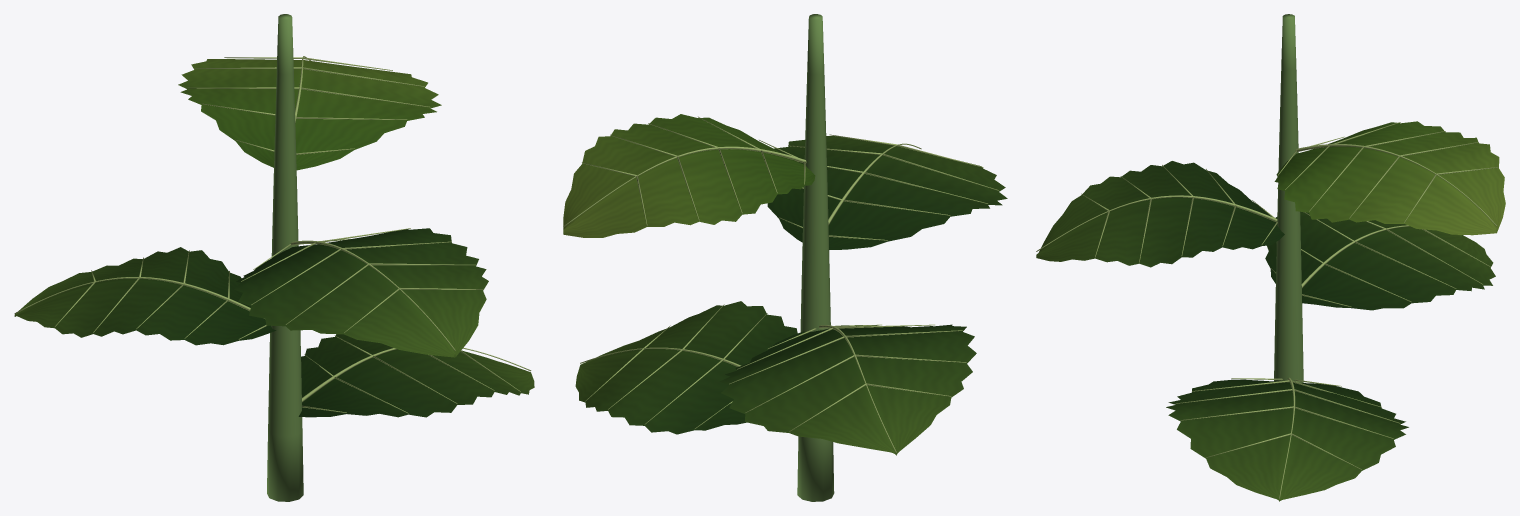
File: hydrangea-03.glb
3 renders of one model, left to right at view 1: azimuth 30°, elevation 25°; view 2: azimuth 150°, elevation 25°; view 3: azimuth 270°, elevation 25°, orthographic. The views are drawn at different scales.
Visible parts, largest first — view 1: hydrangea_stage_03_leaf_veins.004, hydrangea_stage_03_young_leaf.004, hydrangea_stage_03_stem_fibres.004, hydrangea_stage_03_raised_midveins.004; view 2: hydrangea_stage_03_leaf_veins.004, hydrangea_stage_03_young_leaf.004, hydrangea_stage_03_stem_fibres.004, hydrangea_stage_03_raised_midveins.004; view 3: hydrangea_stage_03_leaf_veins.004, hydrangea_stage_03_young_leaf.004, hydrangea_stage_03_stem_fibres.004, hydrangea_stage_03_raised_midveins.004.
Boxes of the visible parts, left/top/right/bottom form: hydrangea_stage_03_leaf_veins.004: left=14, top=228, right=534, bottom=417; hydrangea_stage_03_young_leaf.004: left=178, top=59, right=441, bottom=170; hydrangea_stage_03_stem_fibres.004: left=267, top=14, right=303, bottom=501; hydrangea_stage_03_raised_midveins.004: left=14, top=56, right=531, bottom=413; hydrangea_stage_03_leaf_veins.004: left=575, top=136, right=1007, bottom=455; hydrangea_stage_03_young_leaf.004: left=563, top=114, right=815, bottom=237; hydrangea_stage_03_stem_fibres.004: left=797, top=14, right=834, bottom=501; hydrangea_stage_03_raised_midveins.004: left=563, top=116, right=998, bottom=452; hydrangea_stage_03_leaf_veins.004: left=1036, top=161, right=1495, bottom=501; hydrangea_stage_03_young_leaf.004: left=1274, top=121, right=1505, bottom=235; hydrangea_stage_03_stem_fibres.004: left=1274, top=14, right=1303, bottom=382; hydrangea_stage_03_raised_midveins.004: left=1036, top=122, right=1498, bottom=498.
Bounding box in the file's own units: 0.1068 × 0.1138 × 0.1107.
Materials: 4 (2 with a texture image).
